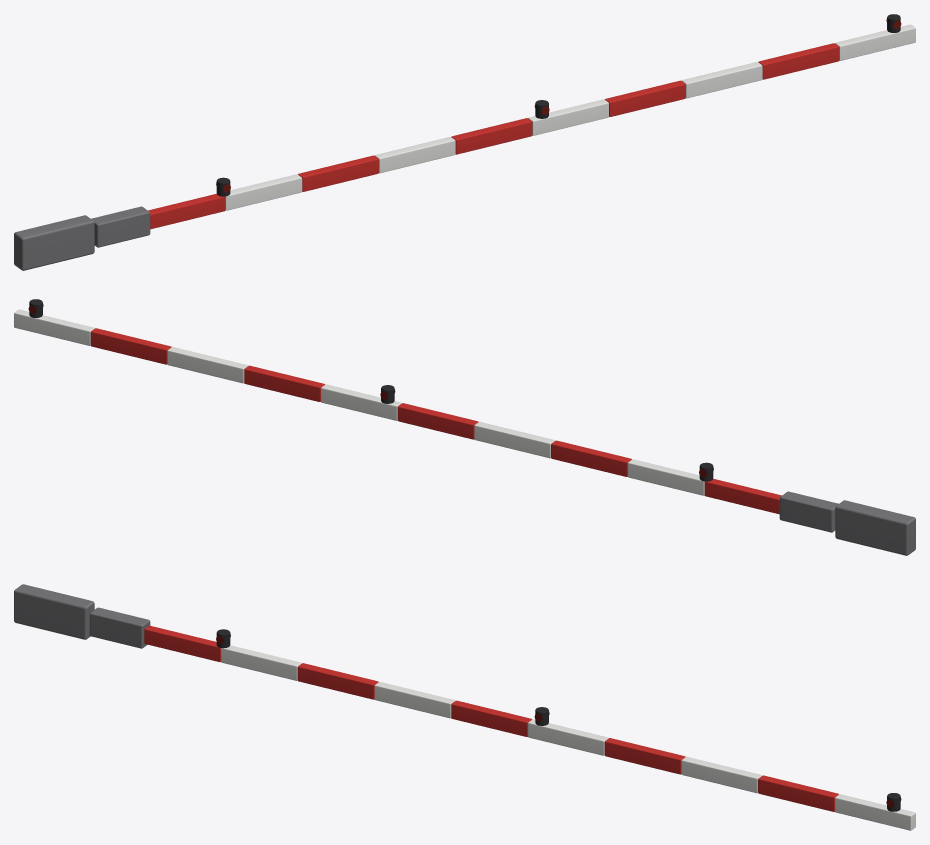
Rendered from lx_boom_6.glb.
3 views of the same model, one above another, from view 1: azimuth 30°, elevation 25°; view 2: azimuth 150°, elevation 25°; view 3: azimuth 330°, elevation 25° (orthographic).
Parts seen in each view (by area): view 1: SM_lx_boom_6; view 2: SM_lx_boom_6; view 3: SM_lx_boom_6.
Part boxes in pixels (box(x1,y1,x2,y2)): SM_lx_boom_6: box(14, 14, 915, 270); SM_lx_boom_6: box(14, 299, 915, 555); SM_lx_boom_6: box(14, 584, 915, 830).
Size of the model in its own units: 6.75 by 0.275 by 0.12.
